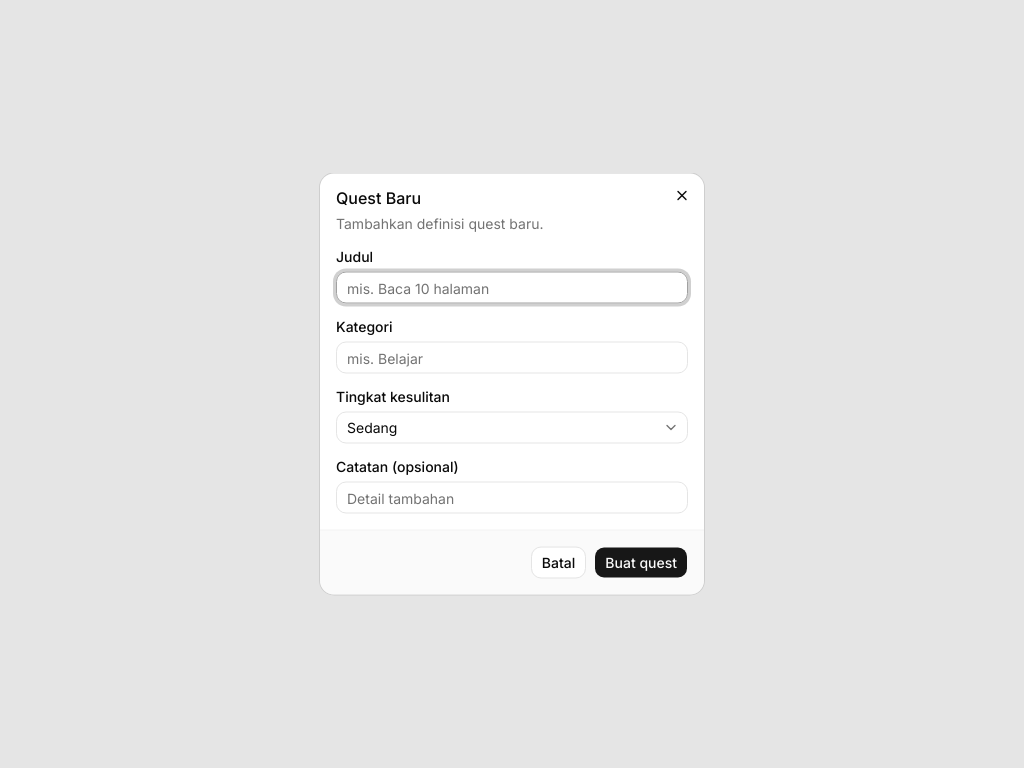
Test: QuestFormDialog › judul kosong → pesan validasi tampil DAN create tidak terpanggil
The image size is (1024, 768).
In the field labelled "Kategori": (512, 358) x1=336 y1=342 x2=688 y2=374, type "Belajar"
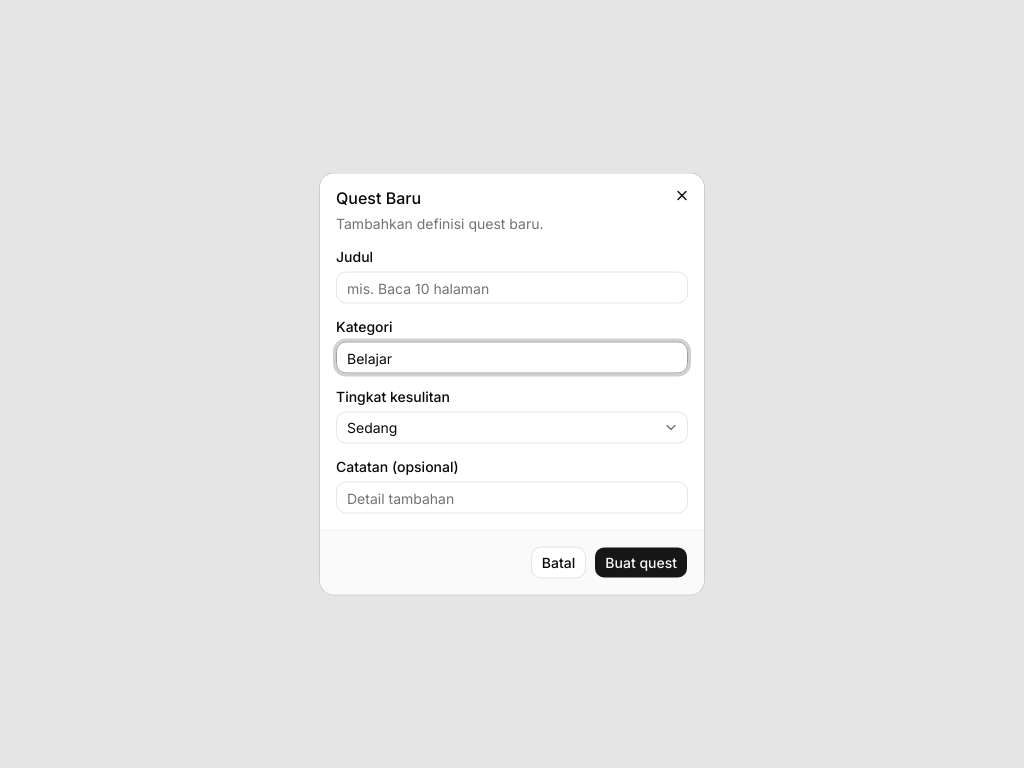
Click the button "Buat quest": click(641, 562) x1=594 y1=546 x2=688 y2=578
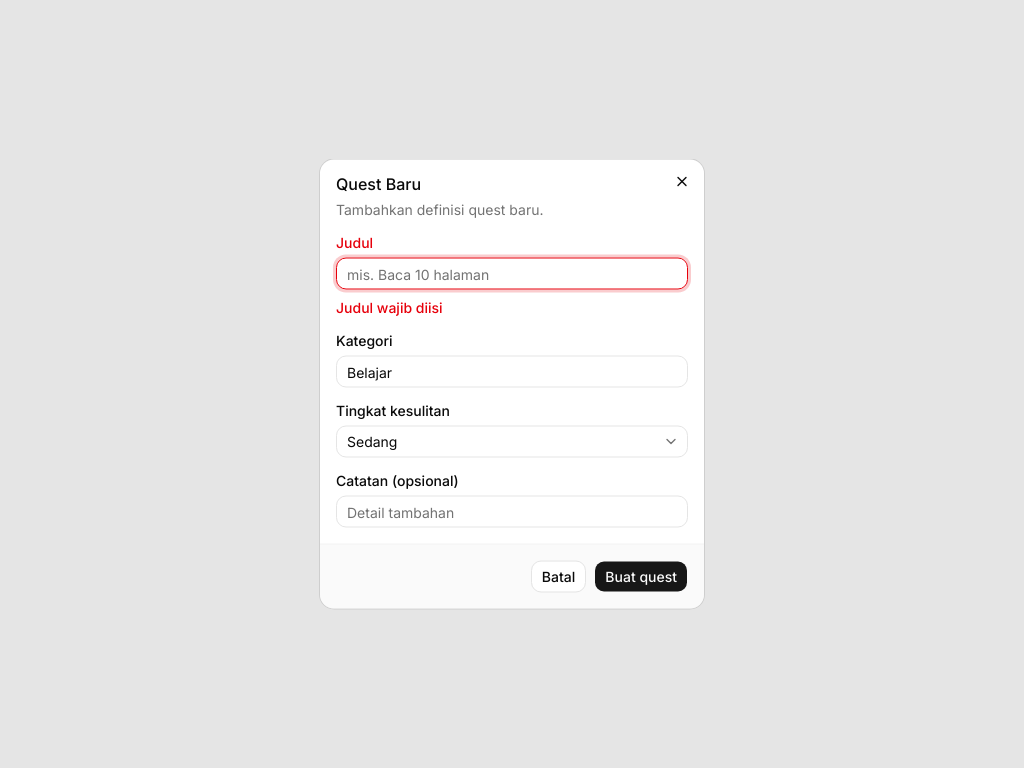
Result: the text "Judul wajib diisi" is shown at x1=336 y1=298 x2=443 y2=316
